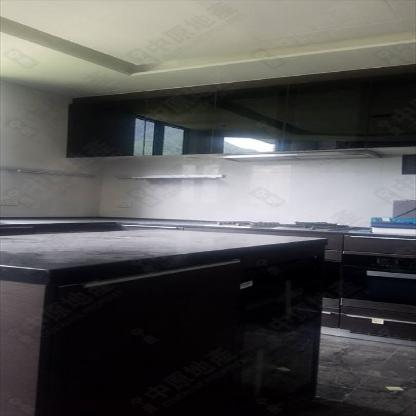Cupboard: (0, 229, 326, 414), (65, 72, 415, 158)
Exhaust Hood: (215, 149, 380, 162)
Stove: (202, 220, 356, 231)
